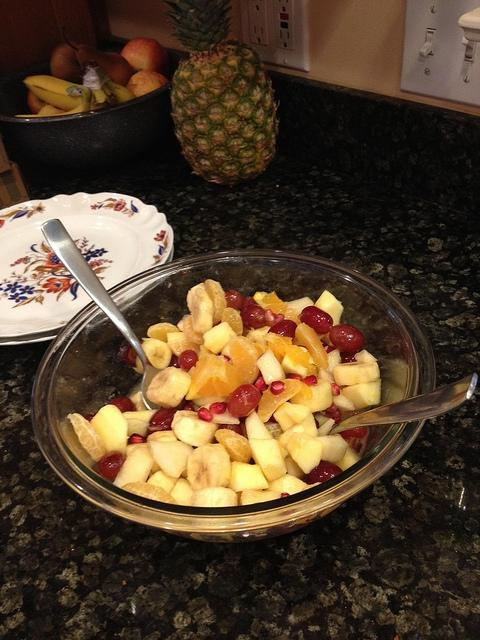apple: (120, 37, 169, 79), (50, 41, 84, 85), (126, 70, 168, 97), (28, 89, 51, 114)
banana: (188, 444, 232, 492), (146, 366, 191, 409), (170, 410, 218, 447), (90, 405, 128, 451), (314, 290, 344, 347), (286, 432, 323, 474), (289, 379, 333, 413), (226, 460, 270, 492), (342, 378, 381, 410), (186, 287, 213, 333), (333, 361, 380, 386), (256, 350, 286, 385), (191, 487, 238, 507), (265, 474, 308, 495), (104, 79, 137, 103), (238, 488, 280, 506), (27, 90, 46, 114)
grape: (227, 383, 261, 418), (329, 324, 364, 354), (300, 306, 334, 334), (146, 408, 178, 436), (306, 460, 343, 484), (98, 451, 125, 479), (239, 306, 266, 328), (267, 320, 298, 338), (178, 349, 198, 372), (336, 428, 368, 440), (109, 398, 136, 412), (226, 290, 244, 310), (218, 424, 244, 436), (242, 296, 258, 310), (340, 351, 357, 363), (324, 402, 337, 412), (322, 344, 332, 354), (84, 414, 94, 422)
pineapple: (163, 0, 280, 184)
